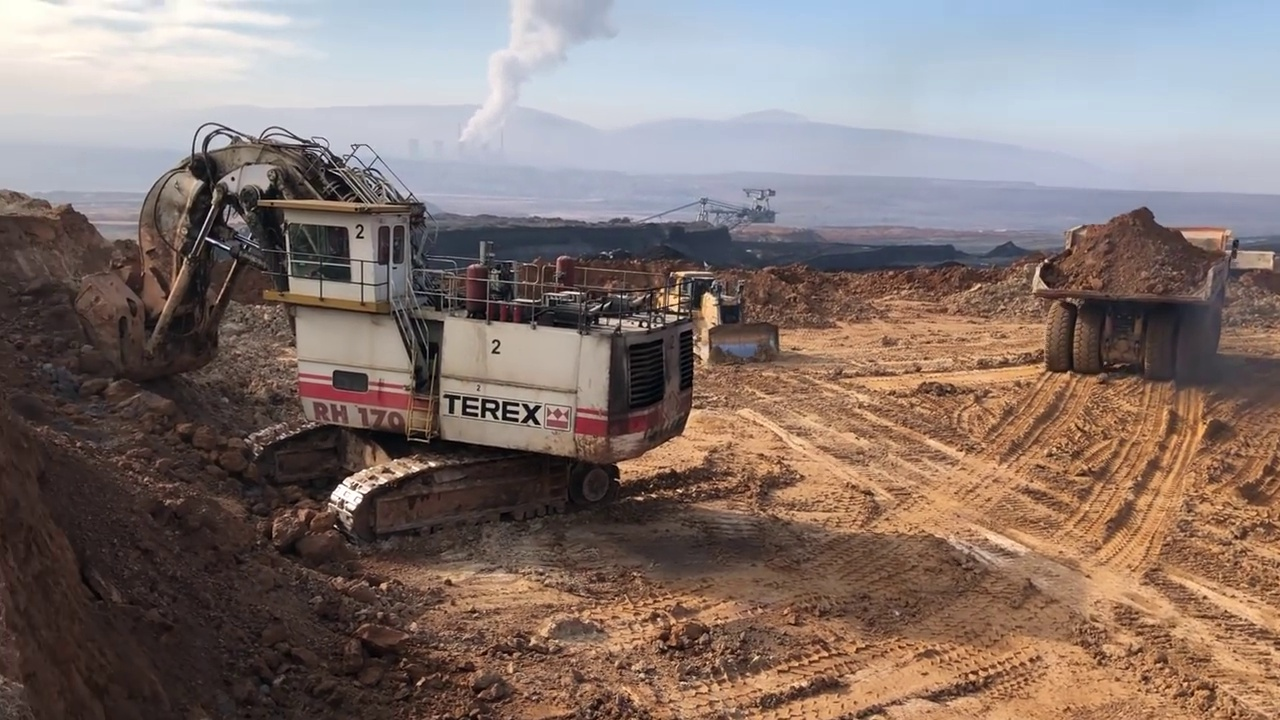dumper: (1032, 222, 1241, 376)
excavator: (72, 138, 699, 536)
wheel loader: (655, 269, 785, 362)
